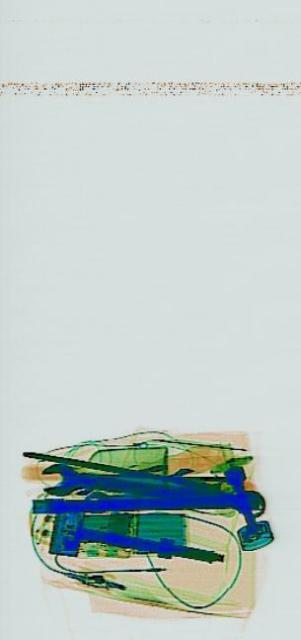Wrench: (39, 458, 264, 520)
